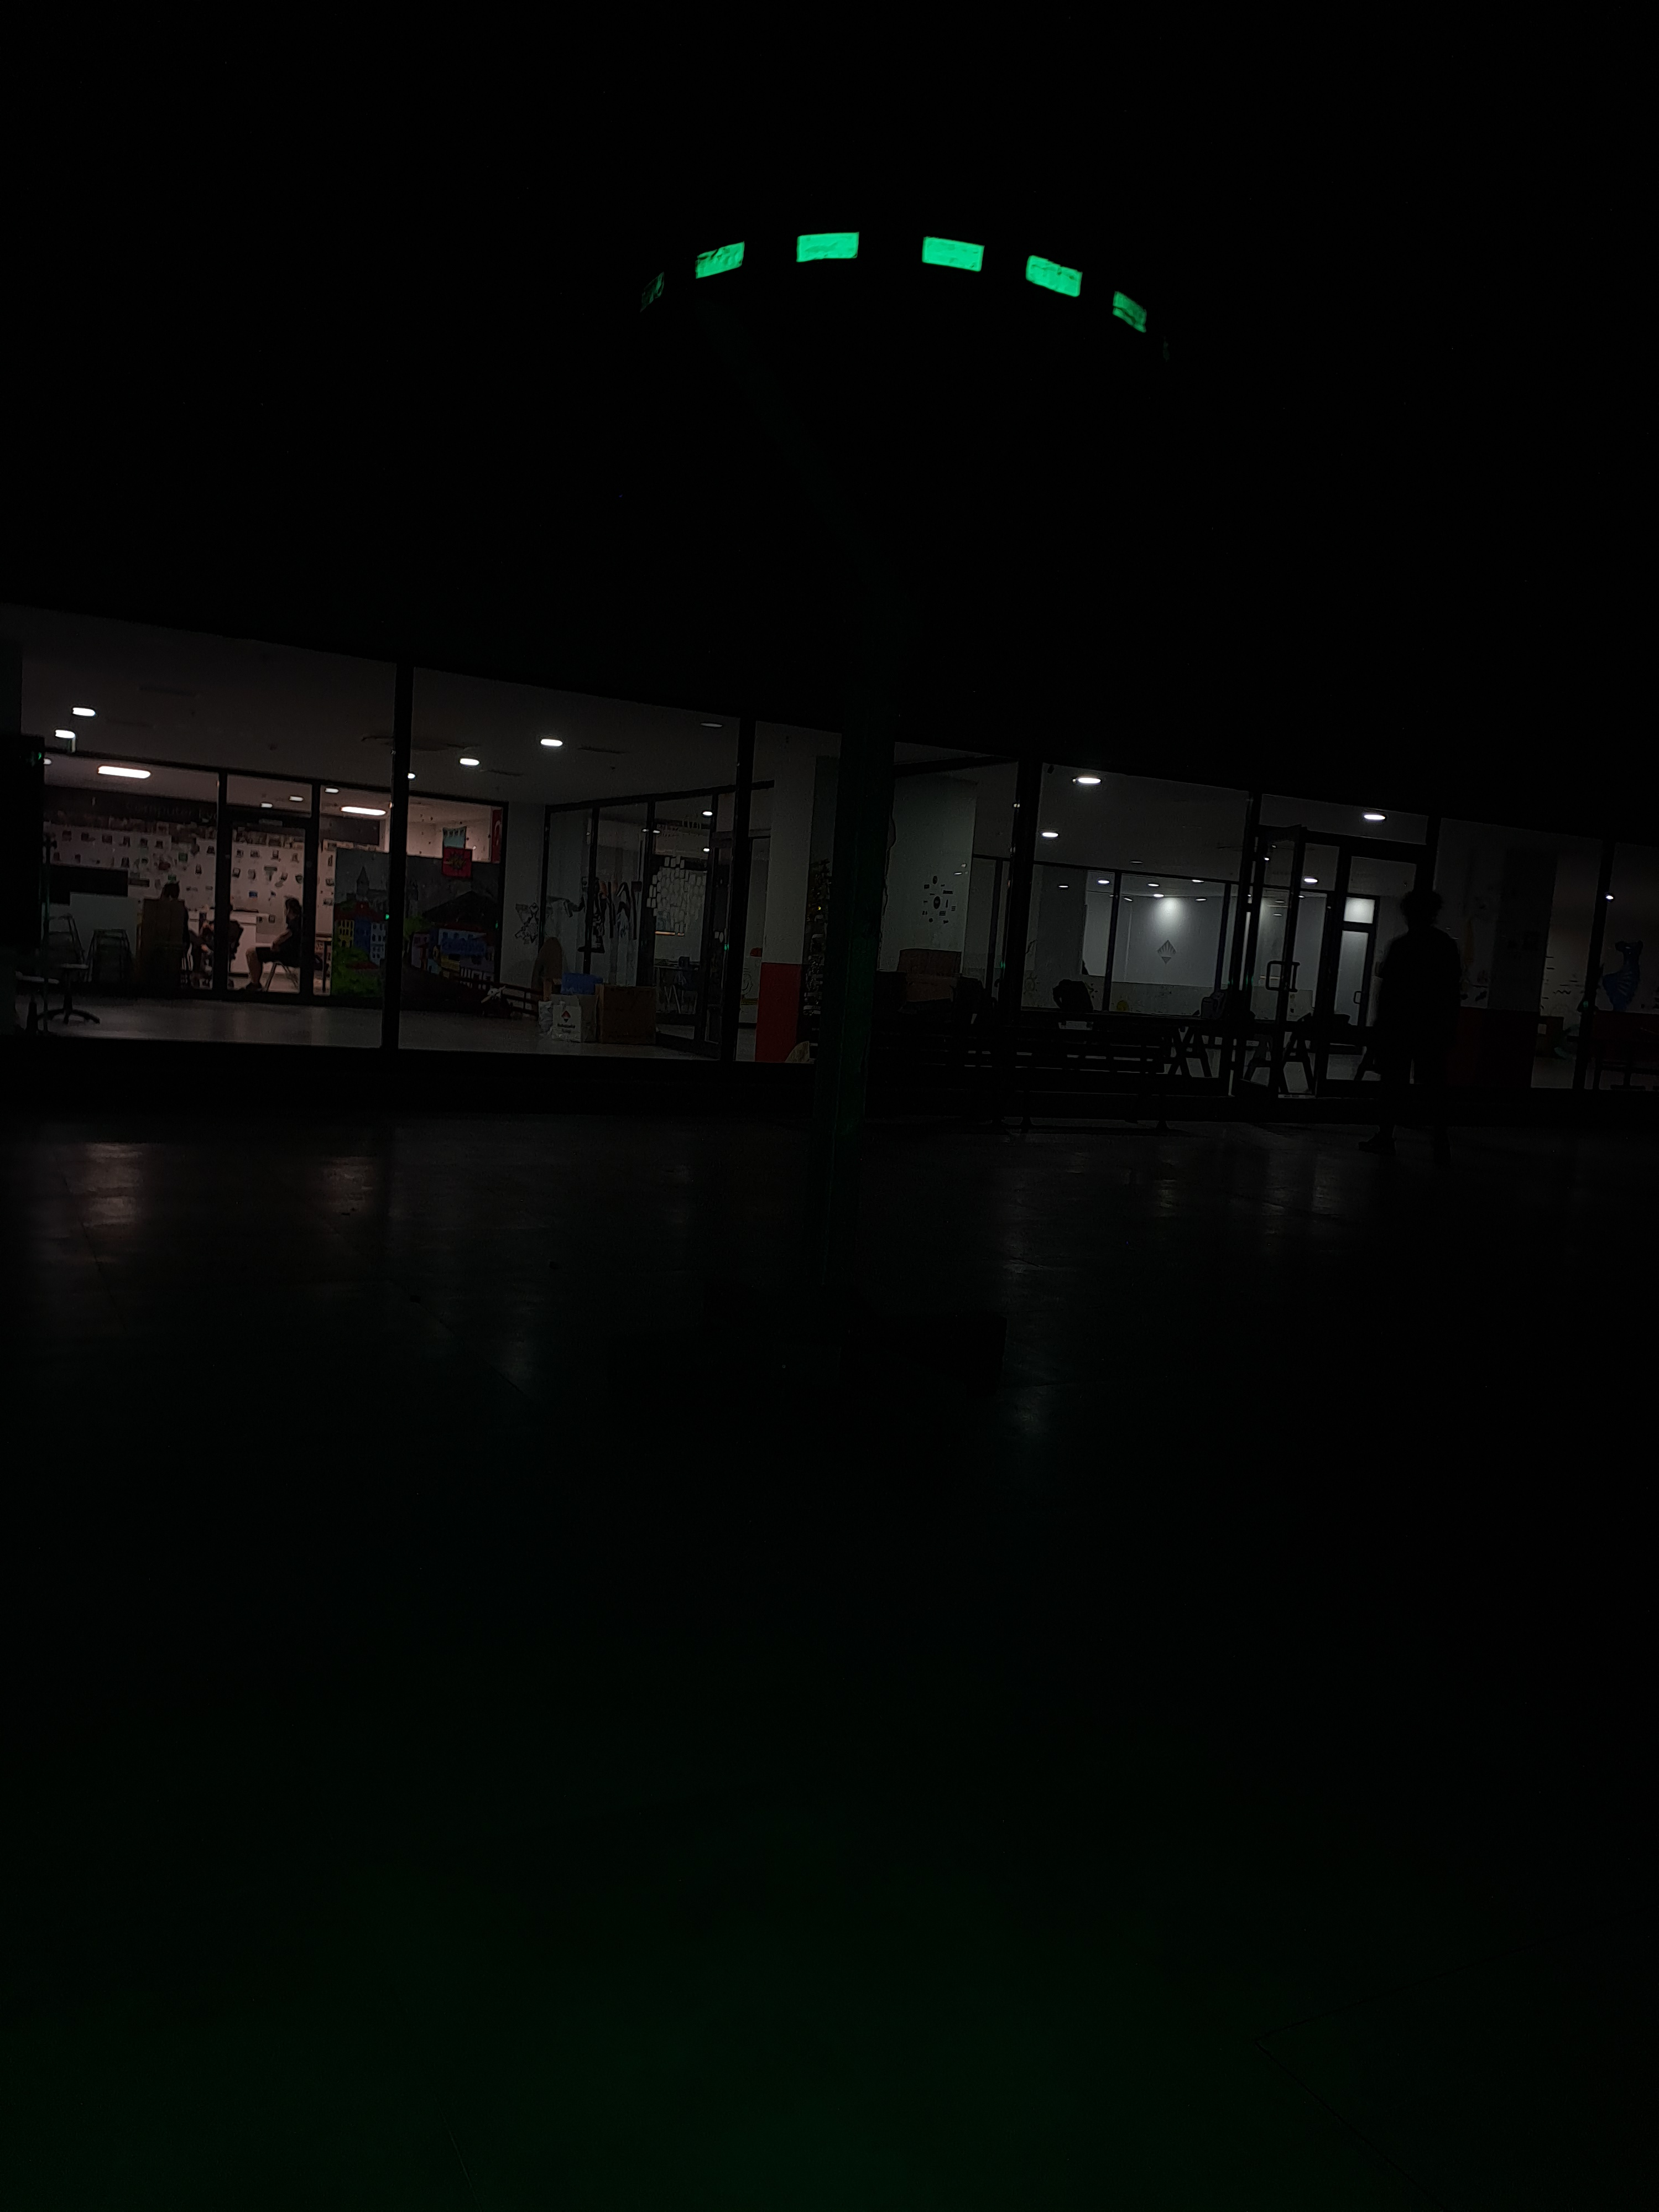hoop: (685, 219, 1152, 359)
